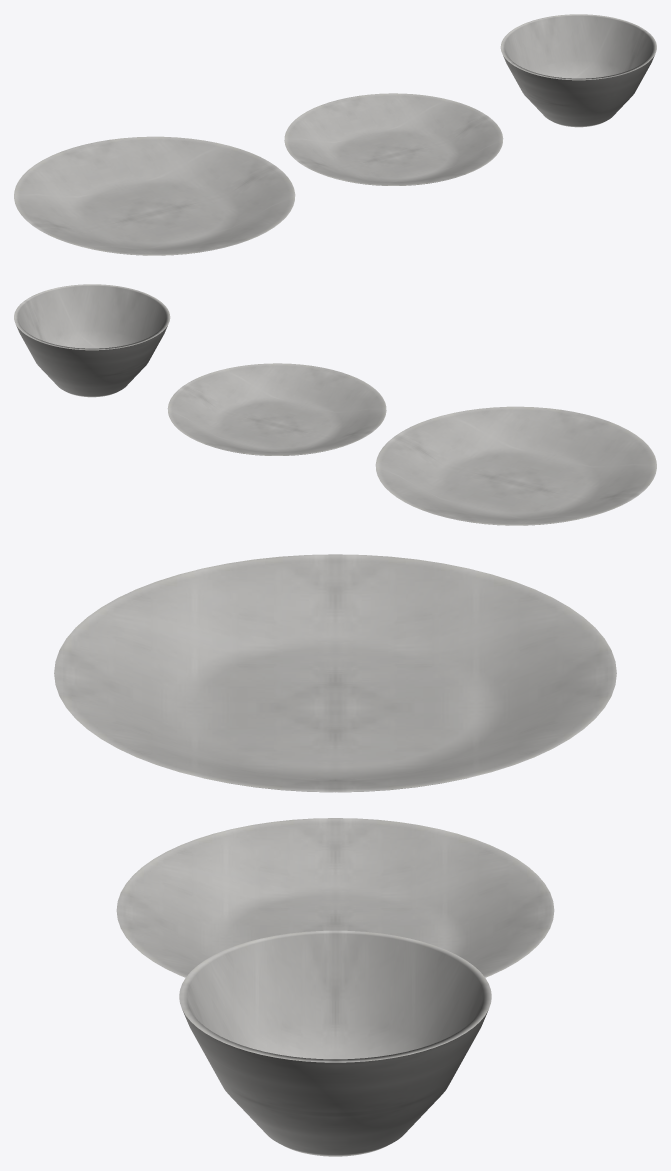
File: MAR-06.glb
The picture shows the model from 3 angles, top to bottom: view 1: azimuth 30°, elevation 25°; view 2: azimuth 150°, elevation 25°; view 3: azimuth 270°, elevation 25°; orthographic projection. The views are drawn at different scales.
Size of the model in its own units: 0.68 by 0.07 by 0.27.
6 materials, 6 textured.
